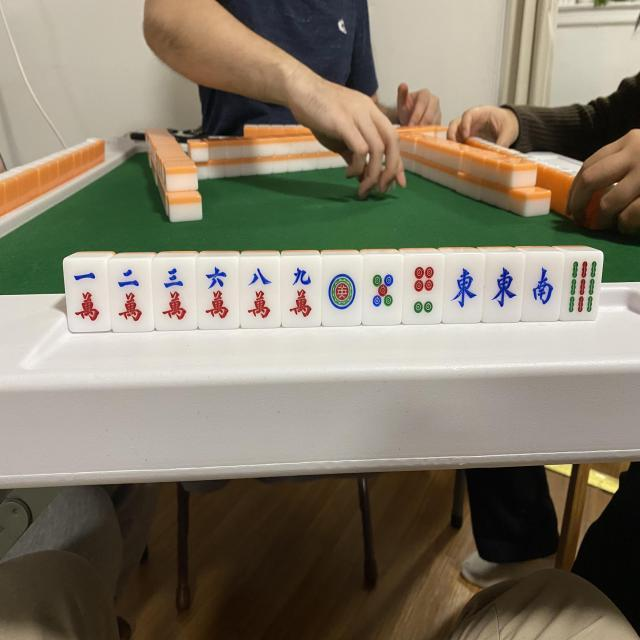hwe: (448, 256, 484, 316), (487, 255, 522, 315)
hws: (525, 257, 561, 316)
sb9: (563, 256, 602, 320)
sc1: (68, 260, 110, 328)
sc2: (111, 260, 152, 327), (112, 261, 146, 326)
sc3: (157, 266, 193, 324)
sc6: (198, 259, 237, 325)
sc8: (243, 264, 276, 326)
sc9: (283, 260, 319, 322)
sd1: (325, 259, 362, 321)
sd5: (366, 262, 401, 317)
sd6: (408, 256, 442, 320)
